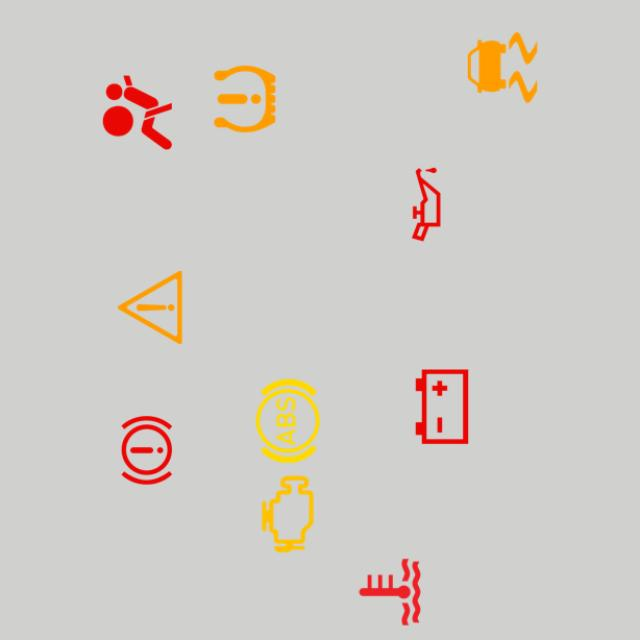Anti Lock Braking System: (242, 375, 333, 467)
Braking System Issue: (101, 405, 193, 496)
Charging System Issue: (396, 361, 488, 452)
Check Engine: (242, 468, 333, 560)
Electronic Stability Problem -ESP-: (457, 22, 548, 114)
Engine Overheating Warning Light: (344, 546, 436, 638)
Low Engine Oil Warning Light: (381, 159, 472, 250)
Low Tire Pressure Warning Light: (199, 53, 291, 145)
Master warning light: (104, 262, 196, 353)
SRS-Airbag: (92, 67, 183, 158)
